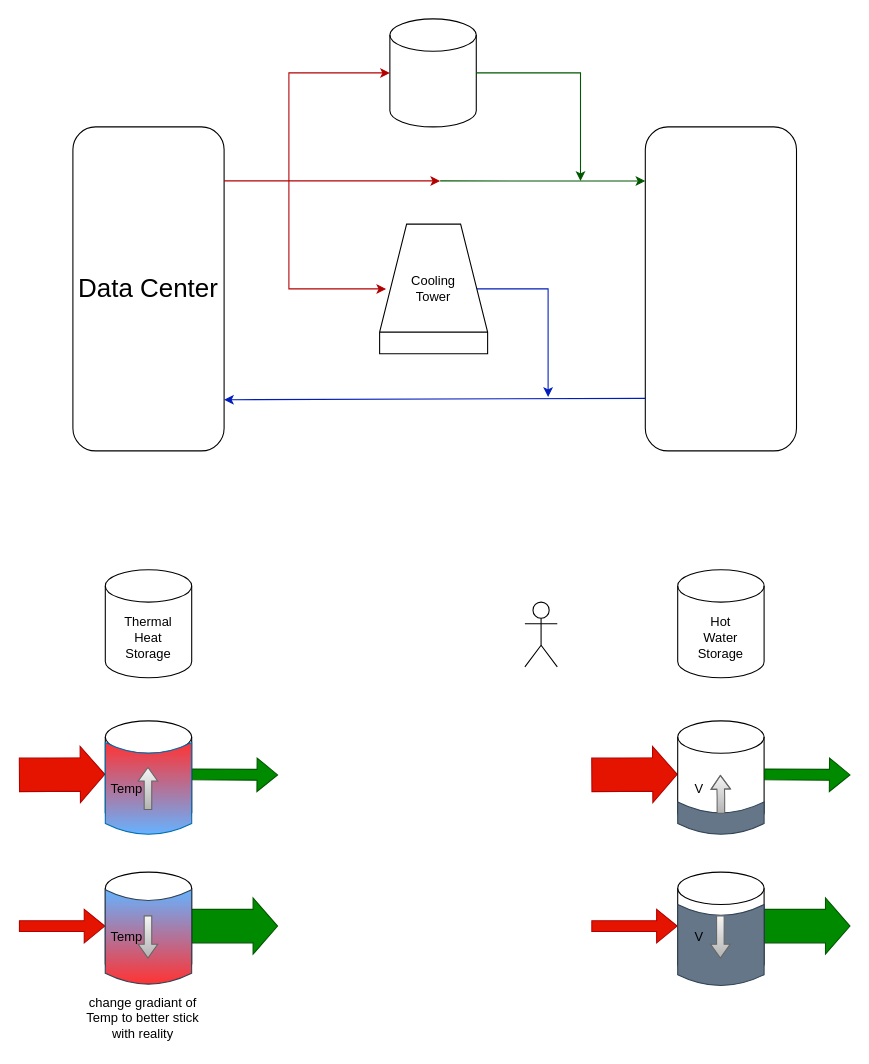
Some shapes in this 869 by 1064 pixel diagram are drawn without their labels. The shapes that lost their labels are listed below. From the top down, each one's centre as x and y in pixels, then its label:
At [432,72]: "Storage".
At [720,288]: "Network".
At [540,634]: "Alyssa".
